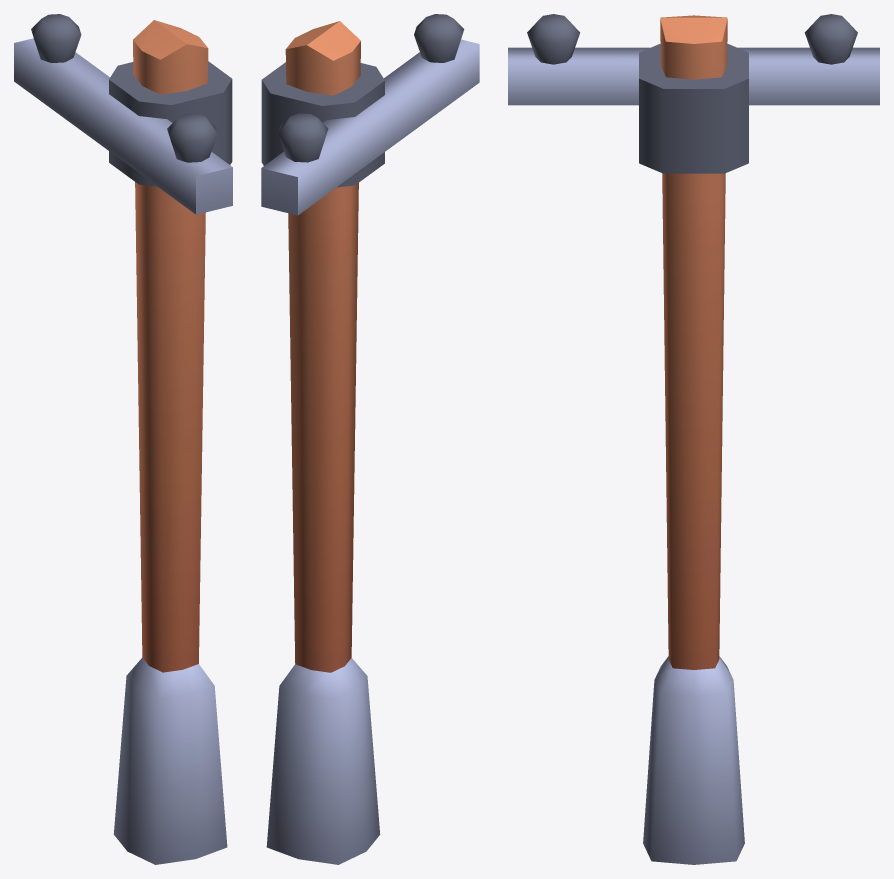
The model's file is roads-electricity-pole-single.glb.
3 renders of one model, left to right at view 1: azimuth 30°, elevation 25°; view 2: azimuth 150°, elevation 25°; view 3: azimuth 270°, elevation 25°, orthographic. The views are drawn at different scales.
Parts seen in each view (by area): view 1: electricity-pole-single; view 2: electricity-pole-single; view 3: electricity-pole-single.
Part boxes in pixels (x1,y1,x2,y2): electricity-pole-single: (14,14,232,864); electricity-pole-single: (261,14,479,864); electricity-pole-single: (508,14,879,864).
Bounding box in the file's own units: 0.0791 × 0.525 × 0.2142.
1 material, 1 textured.
